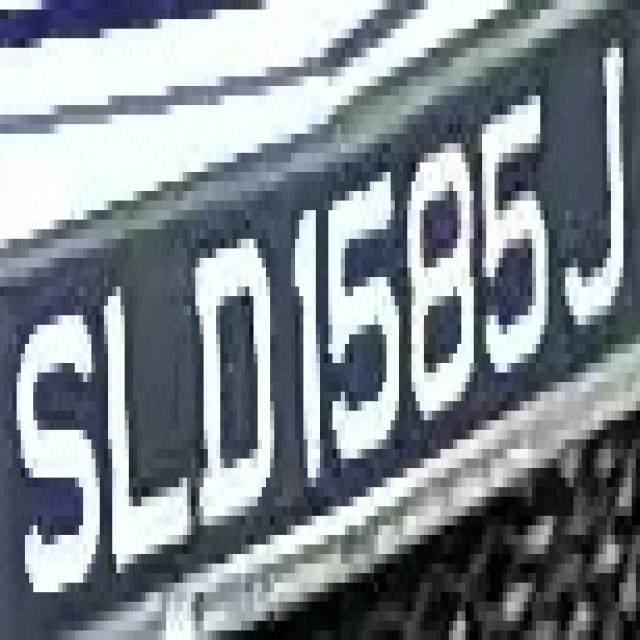1: (274, 191, 332, 525)
5: (312, 162, 411, 478), (474, 77, 557, 382)
8: (382, 115, 474, 449)
D: (179, 229, 278, 573)
J: (561, 38, 640, 325)
L: (96, 248, 187, 535)
S: (8, 277, 100, 602)
